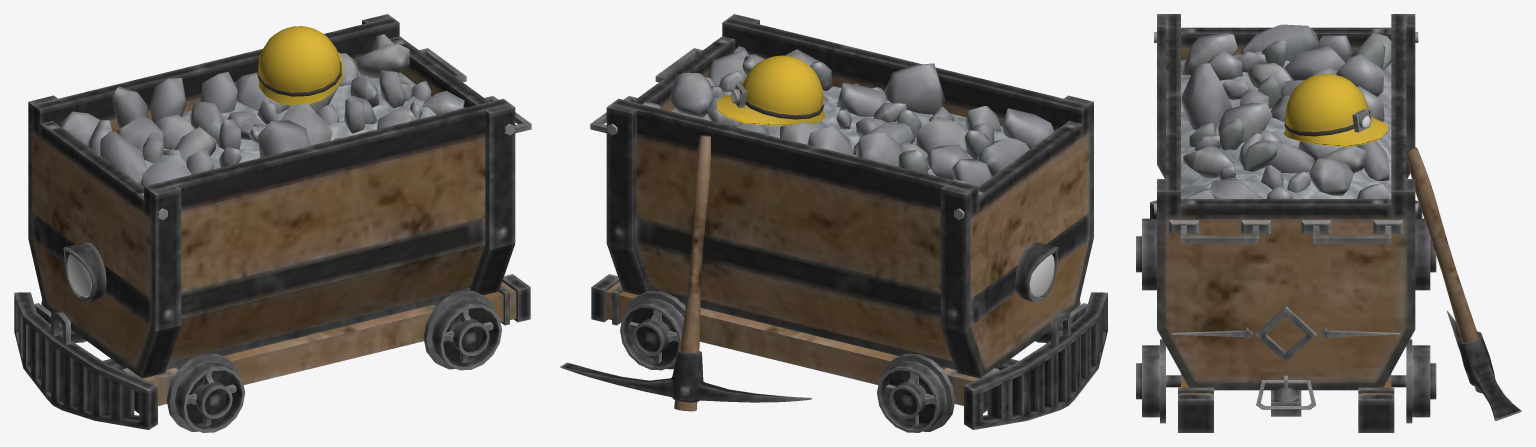
The model's file is SM_MiningTool_3d87f2.glb.
The picture shows the model from 3 angles, left to right: view 1: azimuth 30°, elevation 25°; view 2: azimuth 150°, elevation 25°; view 3: azimuth 270°, elevation 25°; orthographic projection.
Size of the model in its own units: 1.66 by 1.11 by 1.29.
Materials: 1 (1 with a texture image).
